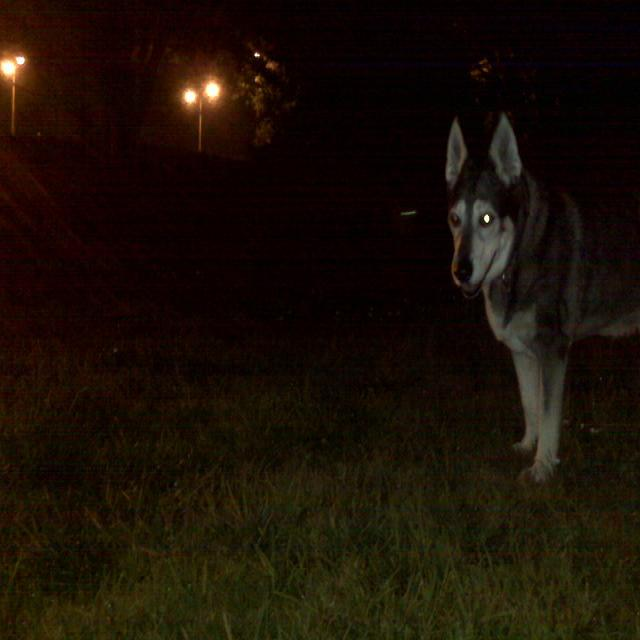dog: (396, 101, 640, 482)
